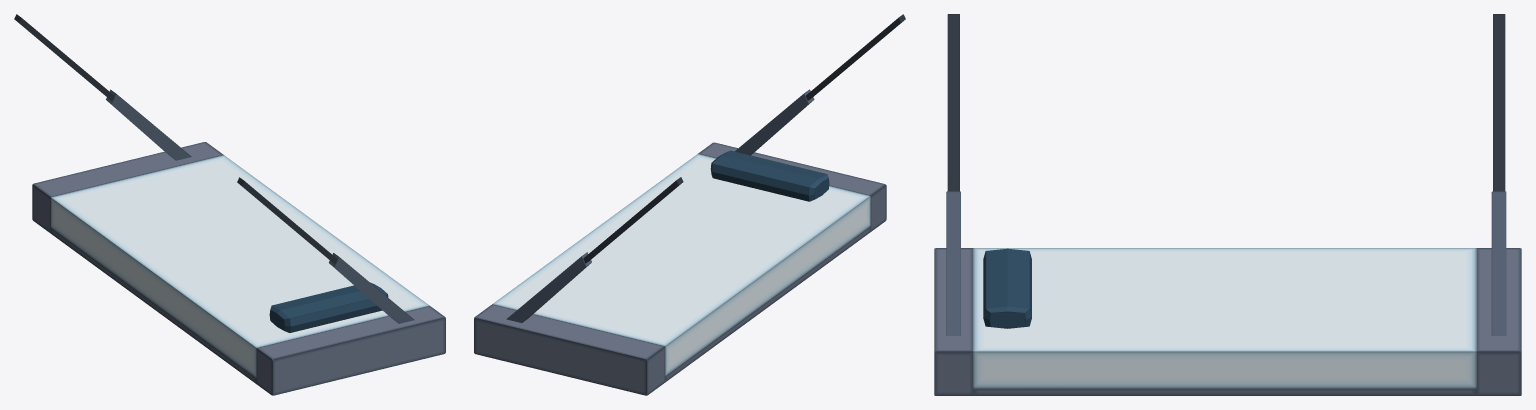
File: ShipBed.obj
The picture shows the model from 3 angles, left to right: view 1: azimuth 30°, elevation 25°; view 2: azimuth 150°, elevation 25°; view 3: azimuth 270°, elevation 25°; orthographic projection. The views are drawn at different scales.
Parts seen in each view (by area): view 1: Bed, cuboid; view 2: Bed, cuboid; view 3: Bed, cuboid.
Boxes of the visible parts, x1,y1,x2,y2 form: Bed: [32, 142, 445, 395]; cuboid: [14, 14, 414, 332]; Bed: [474, 142, 886, 395]; cuboid: [506, 14, 905, 322]; Bed: [934, 248, 1521, 395]; cuboid: [946, 14, 1506, 335].
Size of the model in its own units: 0.7151 by 0.7465 by 1.5.
Materials: 1 (1 with a texture image).
